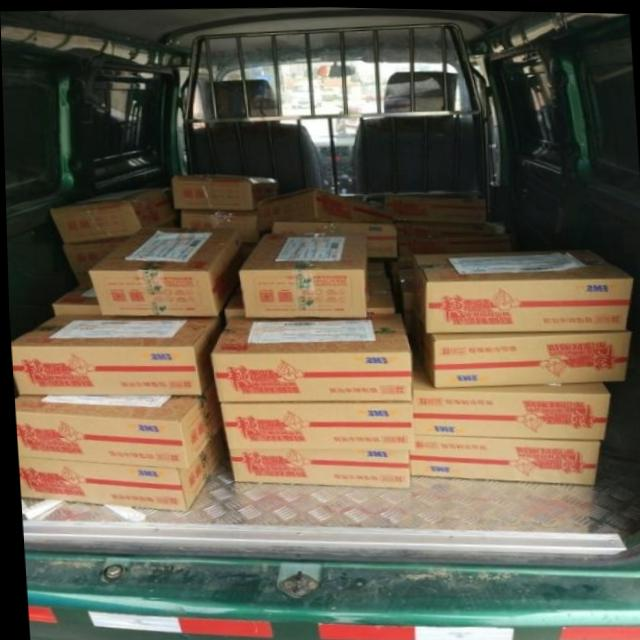box: (13, 373, 220, 467), (406, 245, 635, 329), (212, 309, 411, 401), (17, 424, 226, 511), (11, 310, 216, 396), (408, 361, 606, 438), (87, 224, 241, 315), (417, 325, 626, 385), (239, 228, 366, 317), (221, 399, 414, 449), (404, 435, 601, 481), (51, 186, 179, 244), (225, 446, 405, 485), (255, 188, 383, 229), (271, 217, 399, 257), (394, 217, 515, 259), (171, 171, 276, 208), (382, 193, 482, 222), (61, 234, 124, 277), (178, 209, 261, 238), (50, 273, 96, 315), (362, 274, 390, 311), (387, 257, 412, 296), (362, 256, 385, 277)
